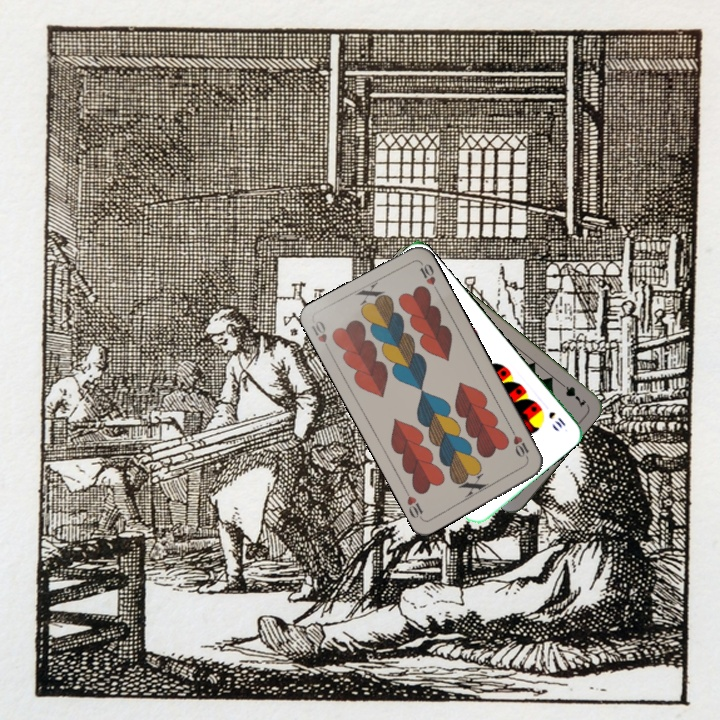G7: (554, 377, 589, 409)
H10: (307, 316, 334, 356), (507, 425, 532, 463)
S10: (545, 407, 568, 431)
